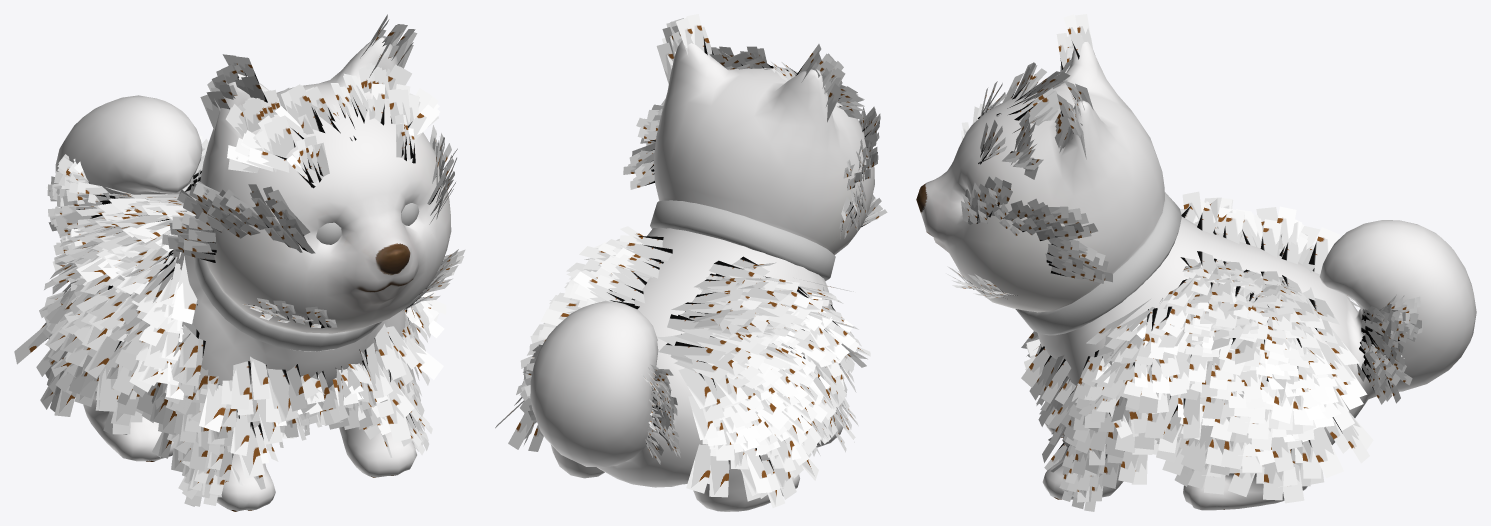
File: Pomeranian.fbx
3 renders of one model, left to right at view 1: azimuth 30°, elevation 25°; view 2: azimuth 150°, elevation 25°; view 3: azimuth 270°, elevation 25°, orthographic. The views are drawn at different scales.
Visible parts, largest first — view 1: Dog Lv3, Phu Kien Dog LV3, Plane.913, Plane.912, Plane.782, Plane.911, Plane.781, Plane.908, Plane.795, Plane.577, Plane.2909, Plane.840 (+18 smaller); view 2: Dog Lv3, Phu Kien Dog LV3, Plane.173, Plane.766, Plane.334, Plane.646, Plane.179, Plane.654, Plane.741, Plane.333, Plane.293, Plane.171 (+17 smaller); view 3: Dog Lv3, Phu Kien Dog LV3, Plane.334, Plane.171, Plane.654, Plane.741, Plane.766, Plane.333, Plane.646, Plane.216, Plane.168, Plane.967.
Boxes of the visible parts, x1,y1,x2,y2 form: Dog Lv3: (55,37,451,511); Phu Kien Dog LV3: (193,257,382,351); Plane.913: (199,336,443,432); Plane.912: (267,343,383,421); Plane.782: (231,326,418,409); Plane.911: (232,382,411,478); Plane.781: (250,323,399,399); Plane.908: (230,375,414,455); Plane.795: (248,104,439,172); Plane.577: (287,73,366,132); Plane.2909: (272,89,403,157); Plane.840: (171,256,197,324); Dog Lv3: (530,40,874,511); Phu Kien Dog LV3: (650,200,835,280); Plane.173: (508,408,729,497); Plane.766: (615,240,765,282); Plane.334: (541,308,725,364); Plane.646: (600,256,743,303); Plane.179: (528,425,710,493); Plane.654: (596,275,725,313); Plane.741: (612,252,742,290); Plane.333: (549,300,738,353); Plane.293: (678,368,717,408); Plane.171: (495,400,771,493); Dog Lv3: (916,41,1476,510); Phu Kien Dog LV3: (1015,192,1181,335); Plane.334: (1308,227,1339,324); Plane.171: (1308,427,1343,478); Plane.654: (1260,219,1281,285); Plane.741: (1223,210,1244,275); Plane.766: (1197,201,1221,282); Plane.333: (1293,226,1320,321); Plane.646: (1236,209,1261,283); Plane.216: (1183,392,1200,438); Plane.168: (1263,462,1283,500); Plane.967: (1021,331,1049,387).
Bounding box in the file's own units: 359 × 471 × 576.
